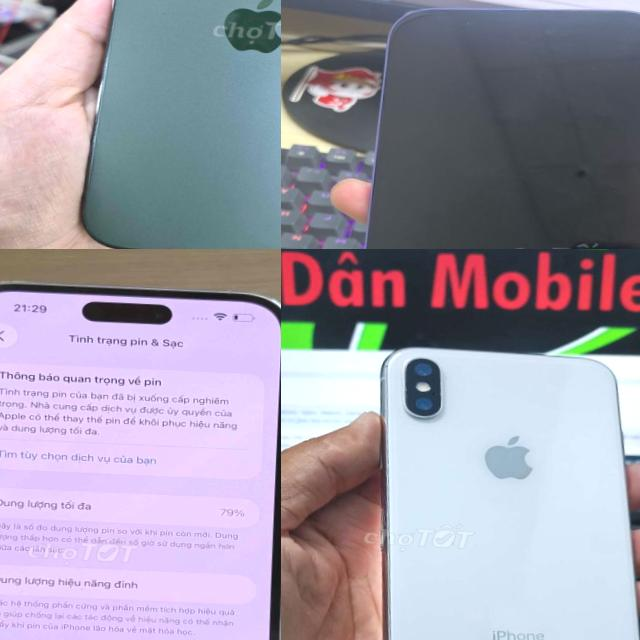gen_12_13: (72, 0, 281, 249)
gen_14: (0, 269, 281, 640)
gen_16: (333, 0, 640, 249)
gen_x_xs: (356, 344, 640, 640)
scratch: (536, 18, 566, 46), (456, 20, 488, 30)
